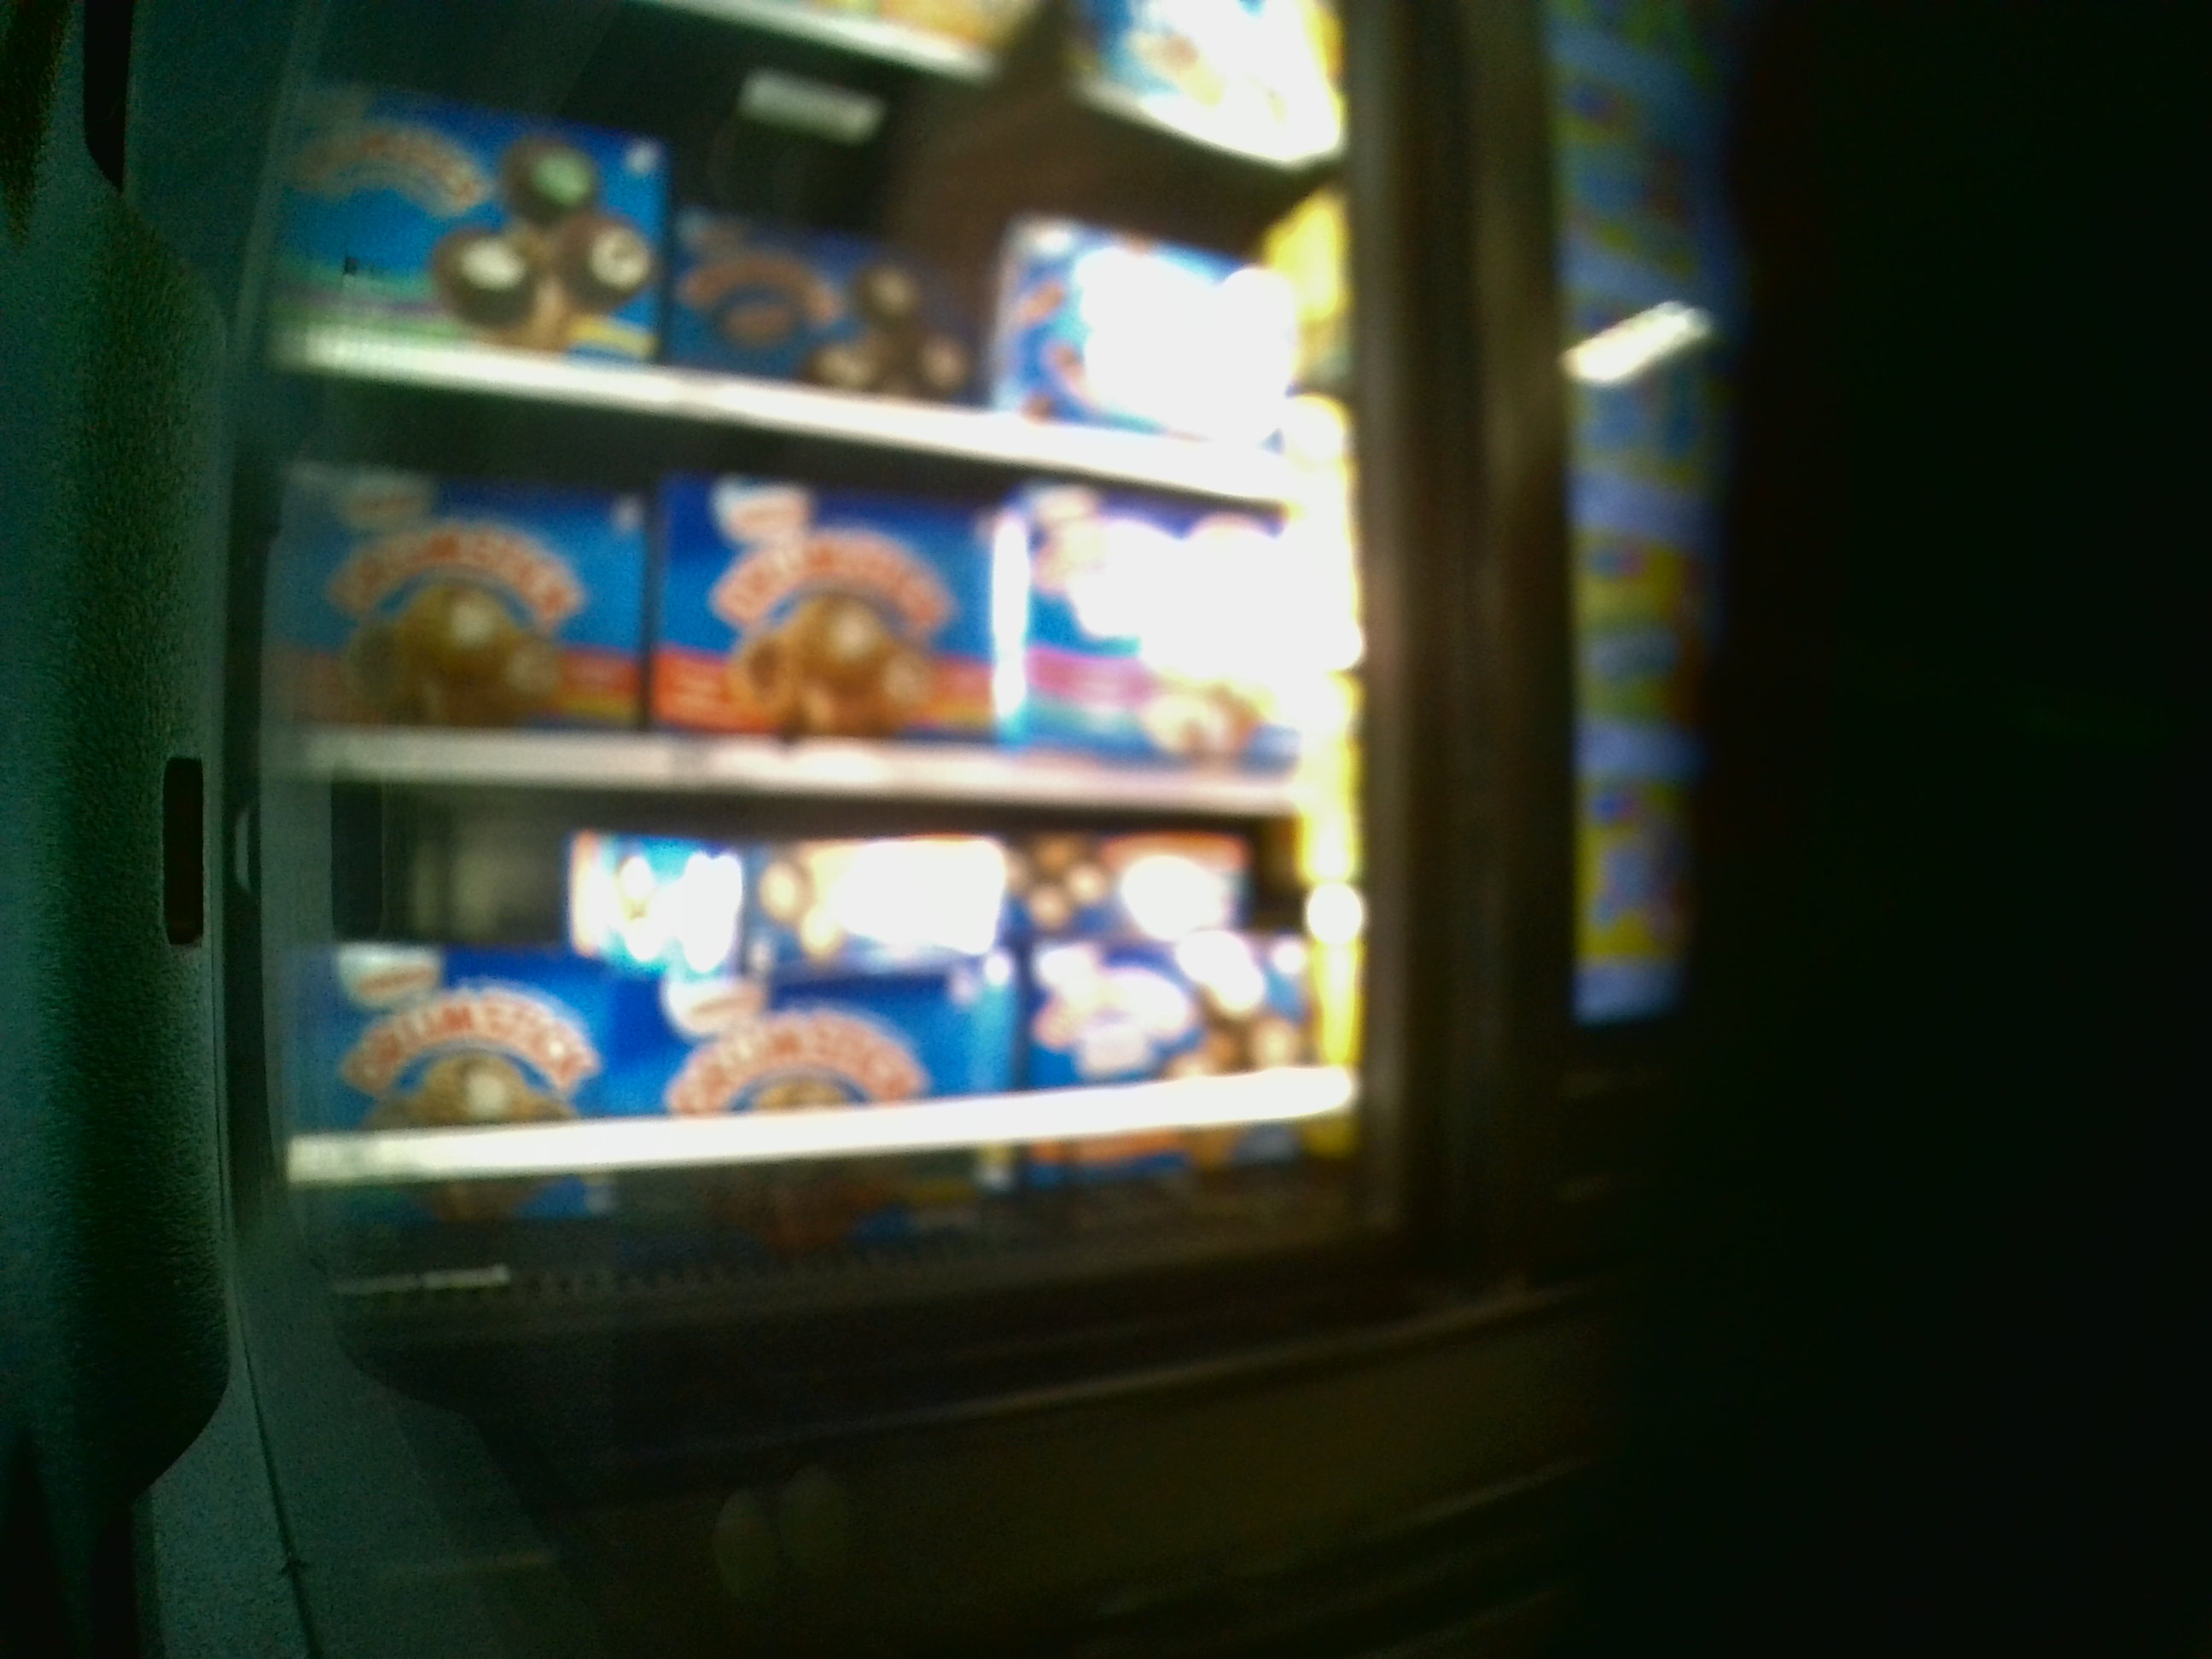shelf: (291, 793, 1338, 1230), (275, 448, 1348, 791)
